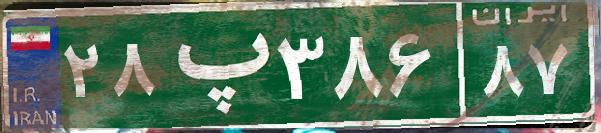2: (57, 26, 110, 107)
3: (273, 28, 330, 110)
6: (385, 28, 445, 110)
7: (525, 38, 570, 115)
8: (330, 28, 385, 110), (475, 38, 525, 113), (110, 28, 158, 105)
پ: (158, 15, 273, 115)
